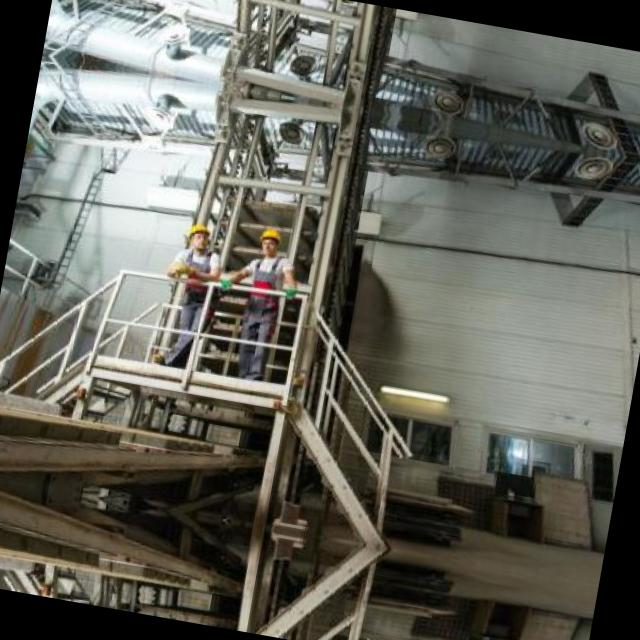helmet: (182, 219, 216, 253), (252, 223, 282, 257)
